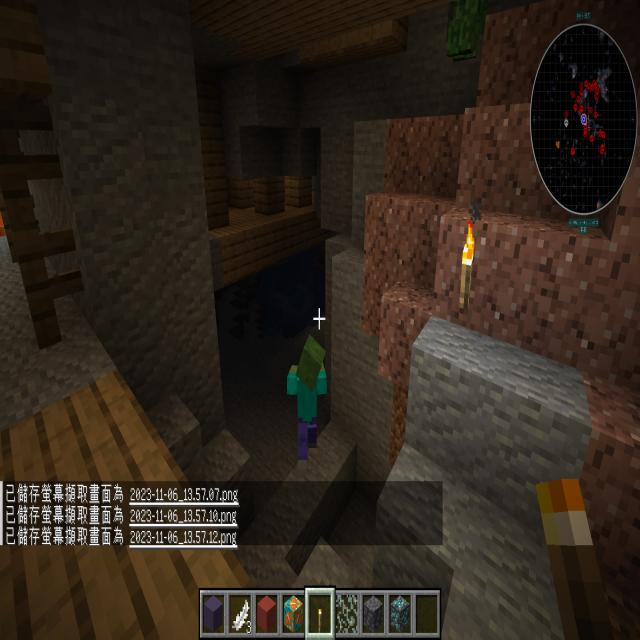Creeper: (437, 0, 494, 72)
Zombie: (274, 330, 342, 490)
